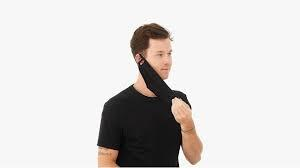Wore Mask Incorrectly: (127, 19, 181, 90)
